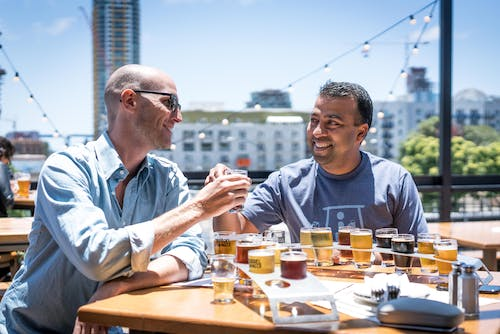alcohol: (212, 253, 236, 304), (349, 228, 374, 270), (417, 232, 442, 274), (226, 168, 248, 214), (310, 226, 334, 268), (391, 233, 415, 275), (375, 227, 399, 268), (435, 238, 458, 277), (279, 251, 308, 280), (234, 235, 263, 263), (247, 249, 275, 274), (265, 243, 290, 268), (212, 230, 237, 254), (299, 226, 315, 260), (338, 226, 353, 259), (15, 172, 31, 199), (263, 236, 275, 248)
